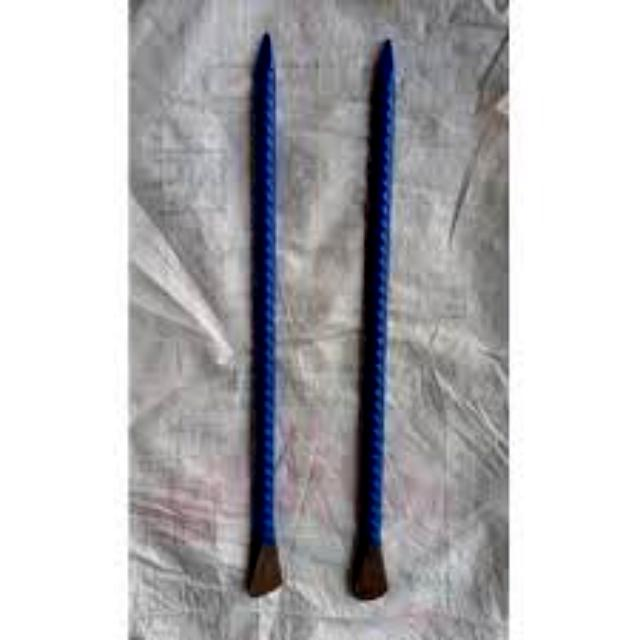crow bar: (235, 14, 293, 606), (351, 12, 404, 608)
